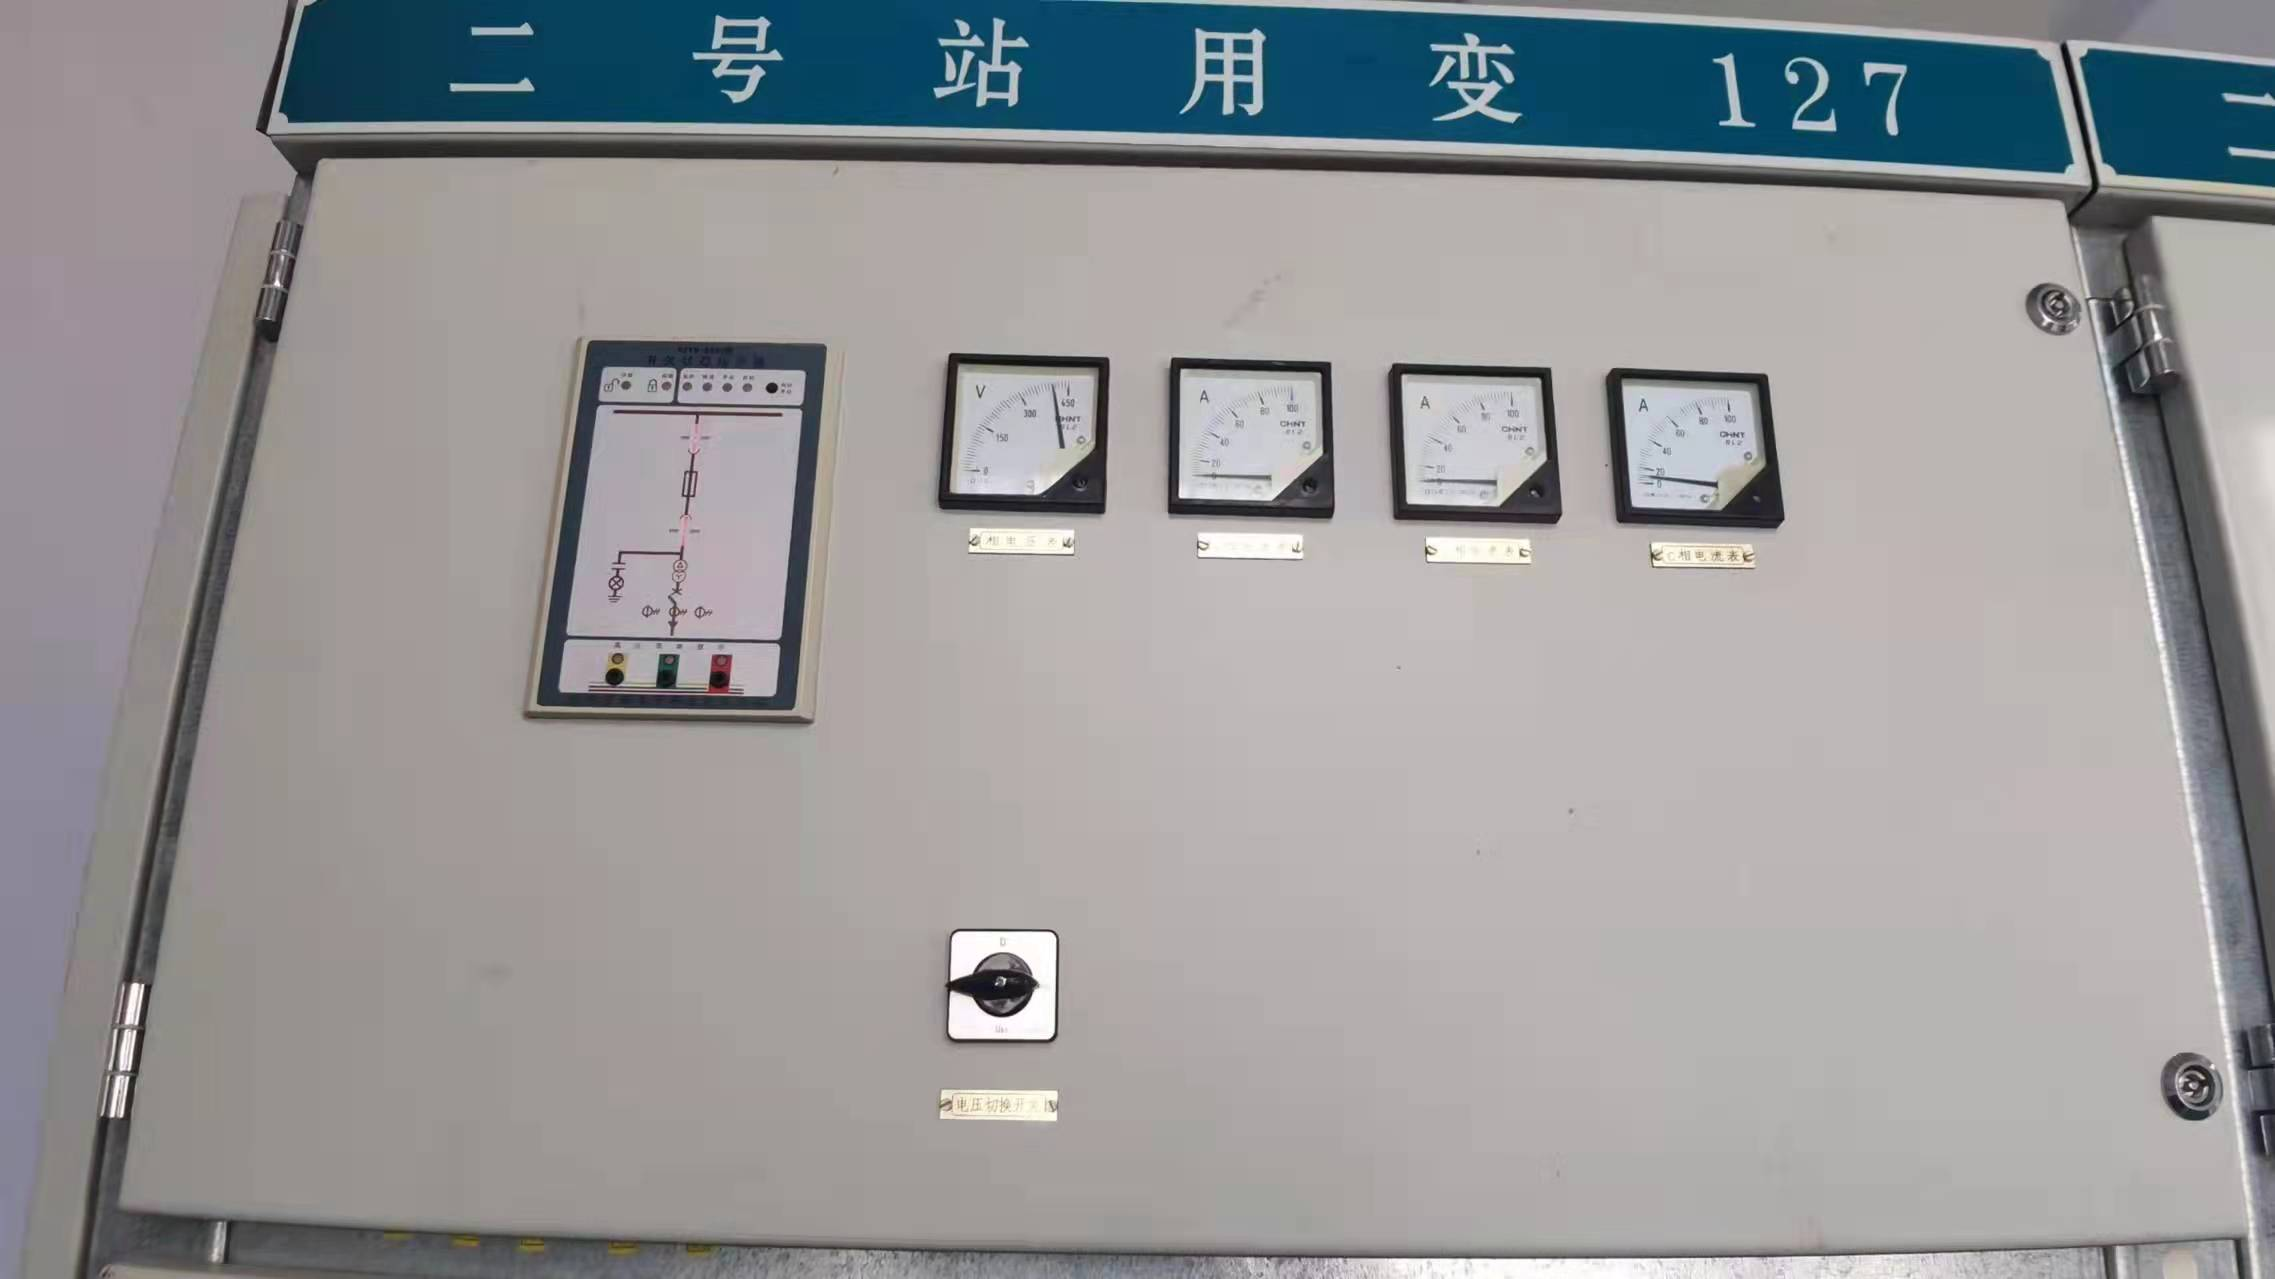pointer: (1394, 365, 1548, 518), (952, 353, 1102, 500), (1177, 362, 1330, 501), (1616, 369, 1764, 508)
